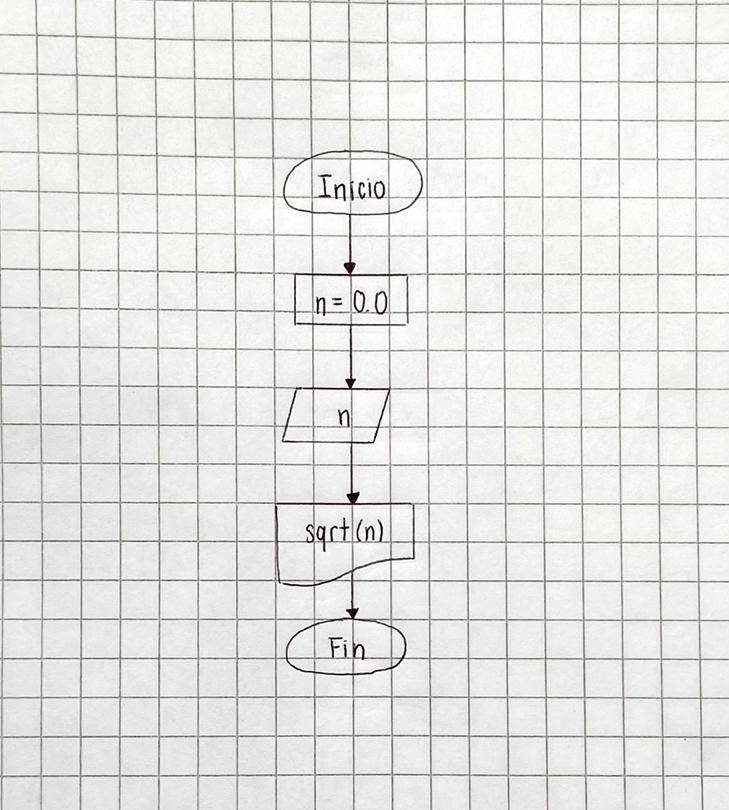arrow_line_down: (338, 322, 363, 393), (335, 213, 363, 274), (339, 441, 366, 503), (344, 570, 362, 619)
print: (266, 499, 425, 592)
process: (286, 270, 419, 330)
scan: (271, 381, 408, 452)
start_end: (274, 144, 434, 219), (268, 613, 411, 682)
